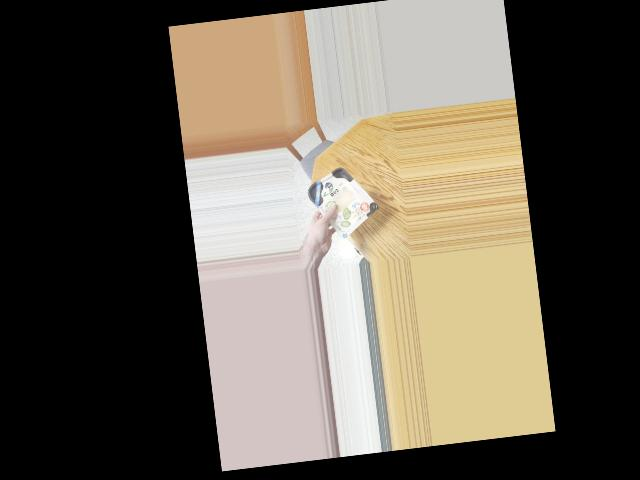cheese: (301, 167, 375, 231)
